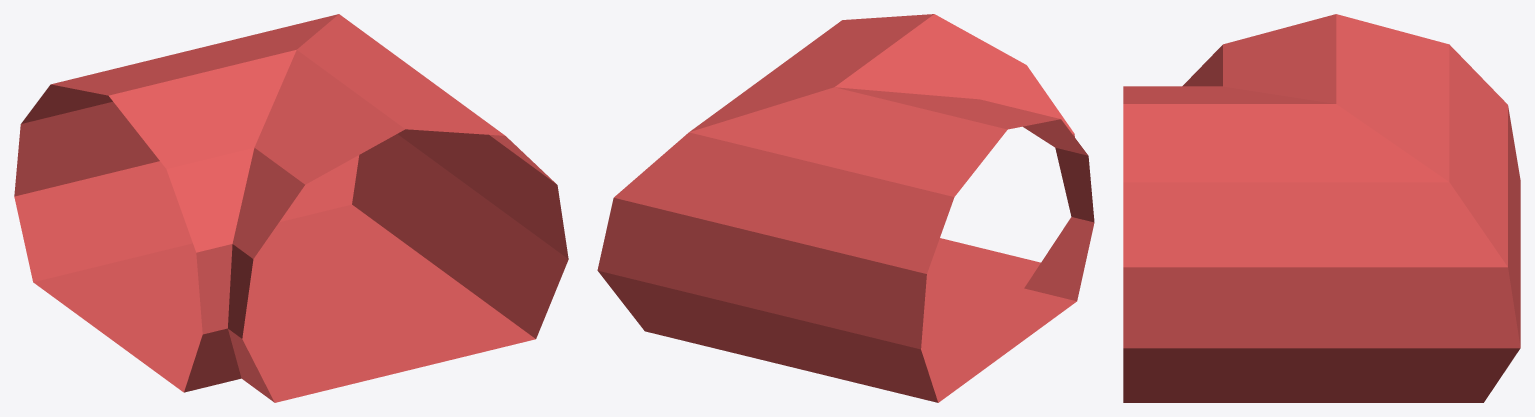
Rendered from mesh_corridor_corner_COLLISION.fbx.
The picture shows the model from 3 angles, left to right: view 1: azimuth 30°, elevation 25°; view 2: azimuth 150°, elevation 25°; view 3: azimuth 270°, elevation 25°; orthographic projection. The views are drawn at different scales.
Visible parts, largest first — view 1: mesh_corridor_corner_COLLISION; view 2: mesh_corridor_corner_COLLISION; view 3: mesh_corridor_corner_COLLISION.
Boxes of the visible parts, <box> form: mesh_corridor_corner_COLLISION: <box>14,14,568,402</box>; mesh_corridor_corner_COLLISION: <box>597,14,1094,402</box>; mesh_corridor_corner_COLLISION: <box>1123,14,1520,402</box>.
Size of the model in its own units: 14 by 9.2 by 14.
